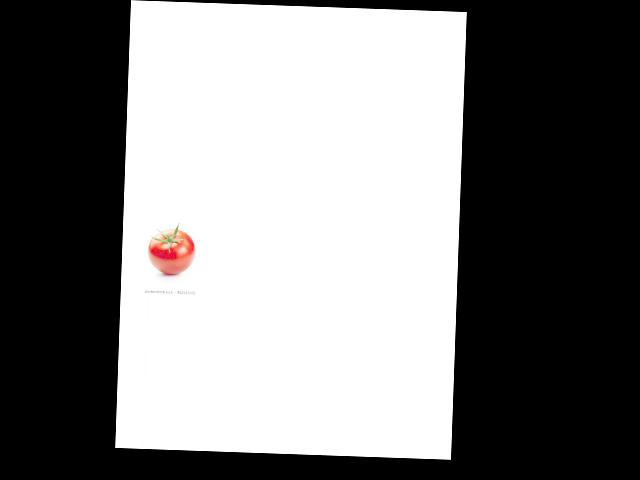tomato: (148, 228, 195, 275)
